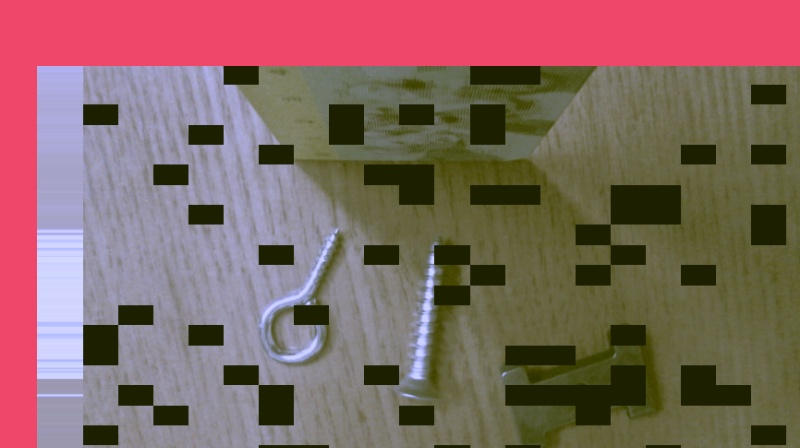O001: (254, 221, 345, 366)
O002: (496, 323, 662, 447)
S001: (390, 232, 449, 400)
